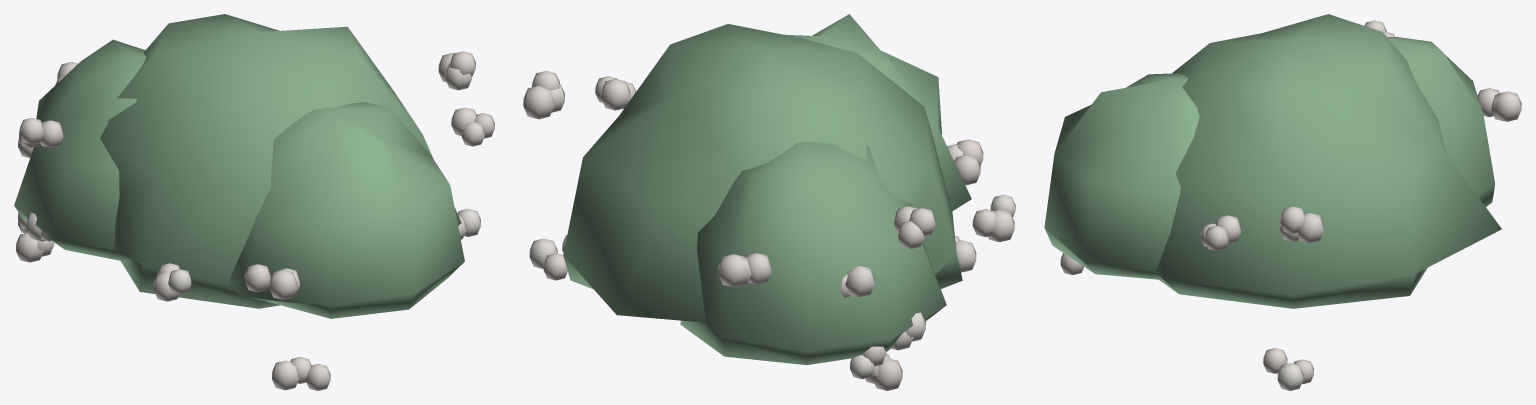
Rendered from ing_mistletoe.gltf.
The picture shows the model from 3 angles, left to right: view 1: azimuth 30°, elevation 25°; view 2: azimuth 150°, elevation 25°; view 3: azimuth 270°, elevation 25°; orthographic projection. The views are drawn at different scales.
Parts seen in each view (by area): view 1: ing_mistletoe; view 2: ing_mistletoe; view 3: ing_mistletoe.
Boxes of the visible parts, x1=… form: ing_mistletoe: x1=14, y1=14, x2=494, y2=390; ing_mistletoe: x1=523, y1=14, x2=1015, y2=390; ing_mistletoe: x1=1044, y1=14, x2=1521, y2=390.
Size of what is drawn, in the model's own units: 0.3118 by 0.1874 by 0.3121.
